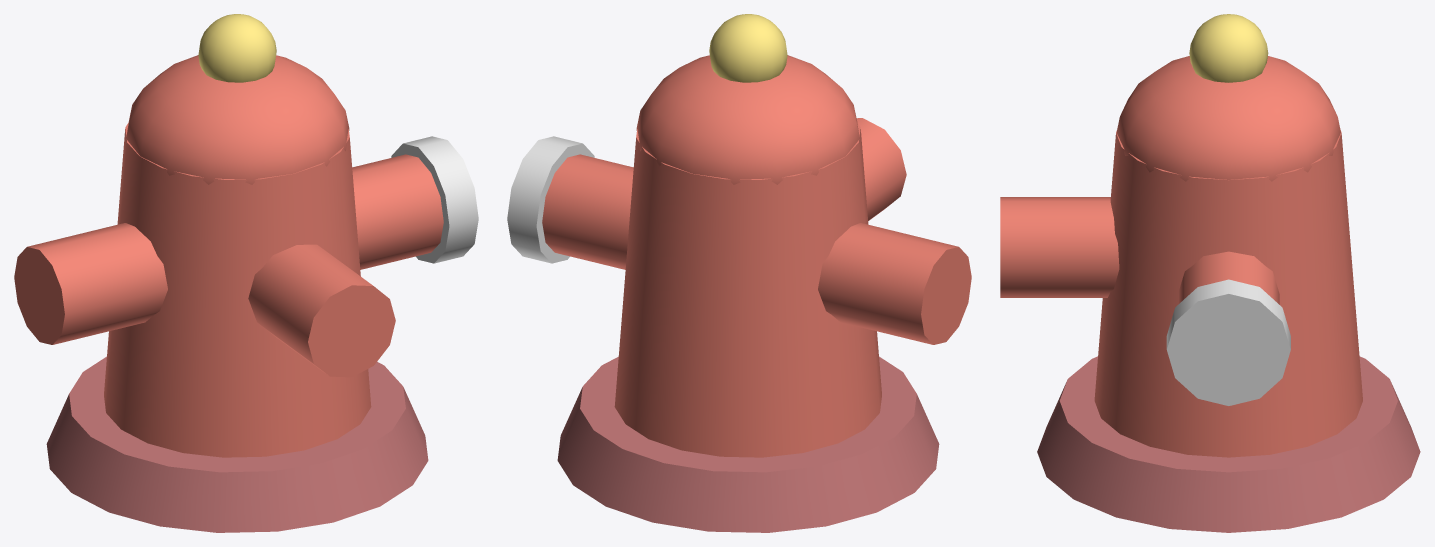
The model's file is hydrant.glb.
The picture shows the model from 3 angles, left to right: view 1: azimuth 30°, elevation 25°; view 2: azimuth 150°, elevation 25°; view 3: azimuth 270°, elevation 25°; orthographic projection.
Size of the model in its own units: 0.835 by 0.85 by 0.745.
